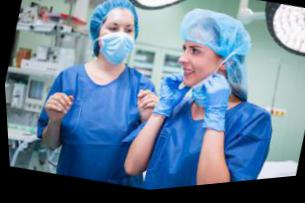OK: (92, 13, 141, 72)
WRONG: (170, 36, 222, 99)
